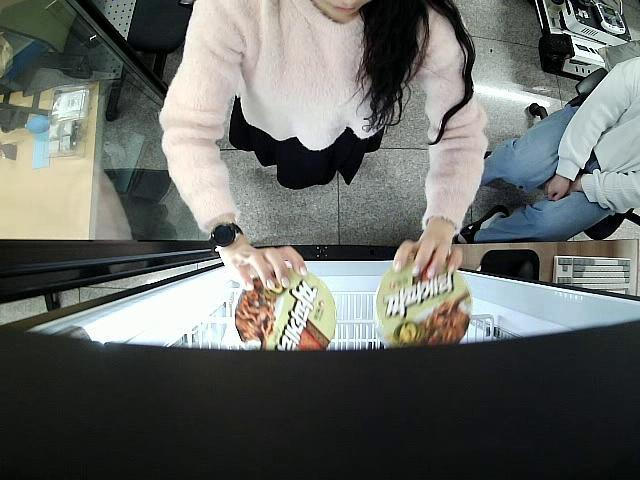03_chapagetti_L: (234, 266, 336, 354), (377, 264, 472, 347)
